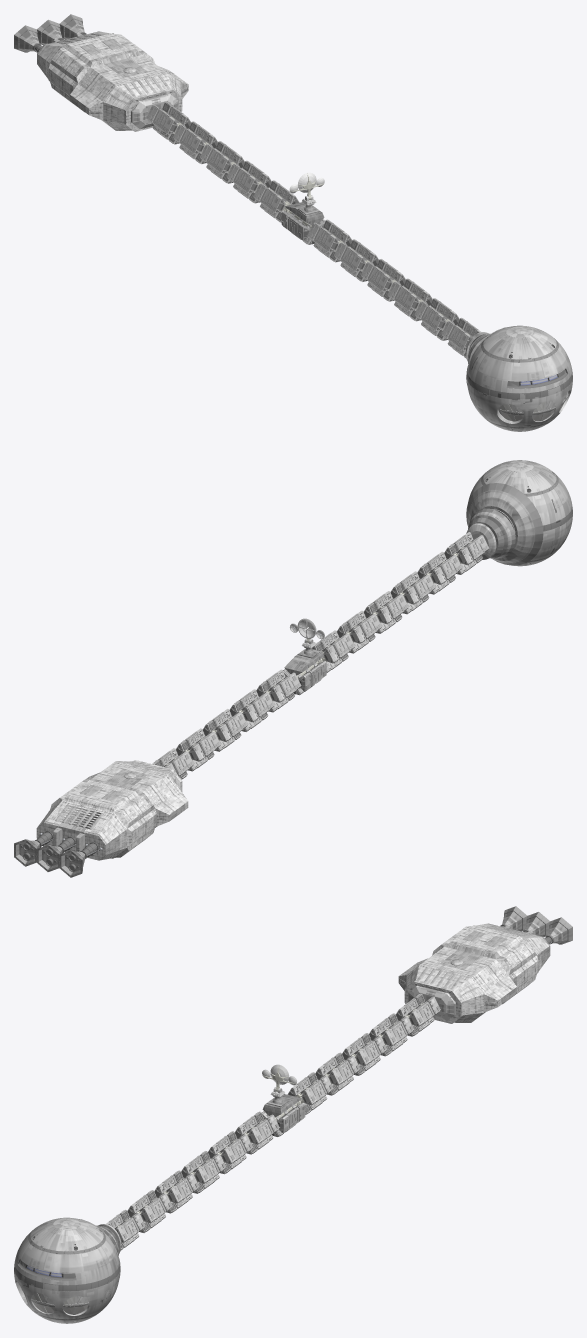
File: discovery-one.glb
3 renders of one model, top to bottom at view 1: azimuth 30°, elevation 25°; view 2: azimuth 150°, elevation 25°; view 3: azimuth 330°, elevation 25°, orthographic.
Visible parts, largest first — view 1: POD_18_tail1_0, ANTENNA__6 - Default_0, Sphere01_disco_0, POD_D95_12 - Default_0, POD_D98_8 - Default_0, POD_D93_9 - Default_0, ChamferBox_1 - Default_0, reactfront_reactfront_0, LEFT_LOW_5 - Default_0, Coupler26_7 - Default_0; view 2: ANTENNA__6 - Default_0, POD_18_tail1_0, POD_D93_9 - Default_0, POD_D95_12 - Default_0, Sphere01_disco_0, POD_D98_8 - Default_0, ChamferBox_1 - Default_0, NECK_PIL_2 - Default_0; view 3: POD_18_tail1_0, ANTENNA__6 - Default_0, Sphere01_disco_0, POD_D95_12 - Default_0, POD_D98_8 - Default_0, POD_D93_9 - Default_0, ChamferBox_1 - Default_0, reactfront_reactfront_0, LEFT_LOW_5 - Default_0, Coupler26_7 - Default_0.
Part boxes in pixels (bbox=[...]): POD_18_tail1_0: bbox=[146, 101, 481, 356]; ANTENNA__6 - Default_0: bbox=[37, 31, 316, 205]; Sphere01_disco_0: bbox=[467, 325, 572, 431]; POD_D95_12 - Default_0: bbox=[147, 102, 478, 358]; POD_D98_8 - Default_0: bbox=[33, 32, 567, 430]; POD_D93_9 - Default_0: bbox=[14, 14, 507, 384]; ChamferBox_1 - Default_0: bbox=[53, 33, 187, 130]; reactfront_reactfront_0: bbox=[131, 93, 178, 128]; LEFT_LOW_5 - Default_0: bbox=[500, 392, 568, 421]; Coupler26_7 - Default_0: bbox=[163, 111, 469, 335]; ANTENNA__6 - Default_0: bbox=[36, 638, 316, 860]; POD_18_tail1_0: bbox=[152, 532, 489, 779]; POD_D93_9 - Default_0: bbox=[14, 483, 543, 877]; POD_D95_12 - Default_0: bbox=[153, 533, 486, 779]; Sphere01_disco_0: bbox=[468, 460, 572, 566]; POD_D98_8 - Default_0: bbox=[20, 470, 554, 871]; ChamferBox_1 - Default_0: bbox=[53, 761, 170, 851]; NECK_PIL_2 - Default_0: bbox=[124, 461, 533, 778]; POD_18_tail1_0: bbox=[106, 993, 440, 1248]; ANTENNA__6 - Default_0: bbox=[270, 923, 550, 1097]; Sphere01_disco_0: bbox=[14, 1217, 119, 1323]; POD_D95_12 - Default_0: bbox=[109, 994, 440, 1250]; POD_D98_8 - Default_0: bbox=[17, 924, 553, 1321]; POD_D93_9 - Default_0: bbox=[79, 906, 572, 1278]; ChamferBox_1 - Default_0: bbox=[399, 925, 533, 1022]; reactfront_reactfront_0: bbox=[408, 985, 455, 1020]; LEFT_LOW_5 - Default_0: bbox=[21, 1289, 89, 1314]; Coupler26_7 - Default_0: bbox=[117, 1003, 423, 1227].
Size of the model in its own units: 123 by 116 by 1069.
14 materials, 10 textured.
